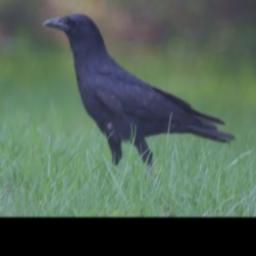Crow: (44, 12, 238, 182)
